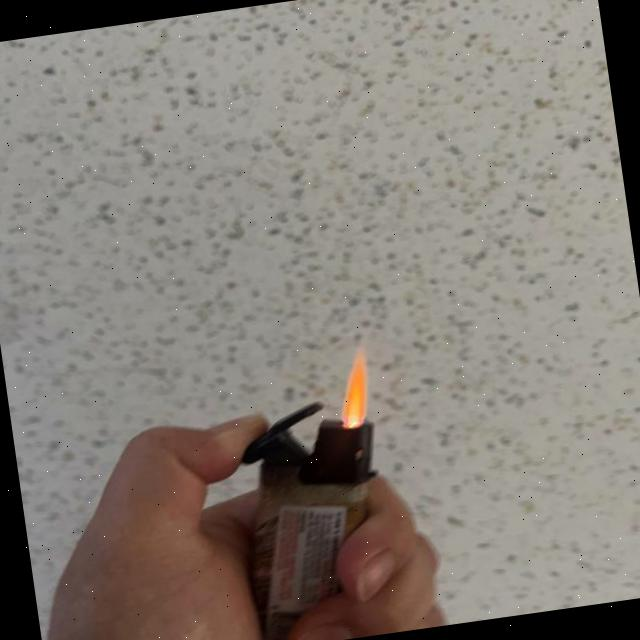fire: (331, 355, 377, 426)
